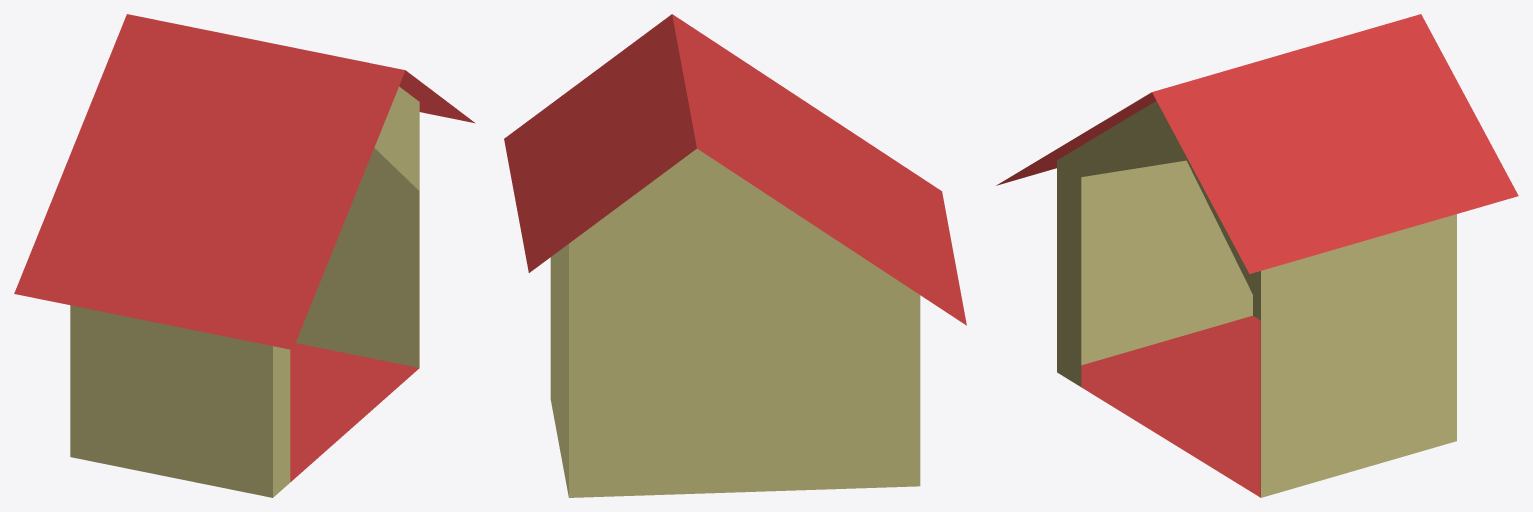
3 renders of one model, left to right at view 1: azimuth 30°, elevation 25°; view 2: azimuth 150°, elevation 25°; view 3: azimuth 270°, elevation 25°, orthographic. The views are drawn at different scales.
Size of the model in its own units: 18.71 by 17.64 by 13.83.
